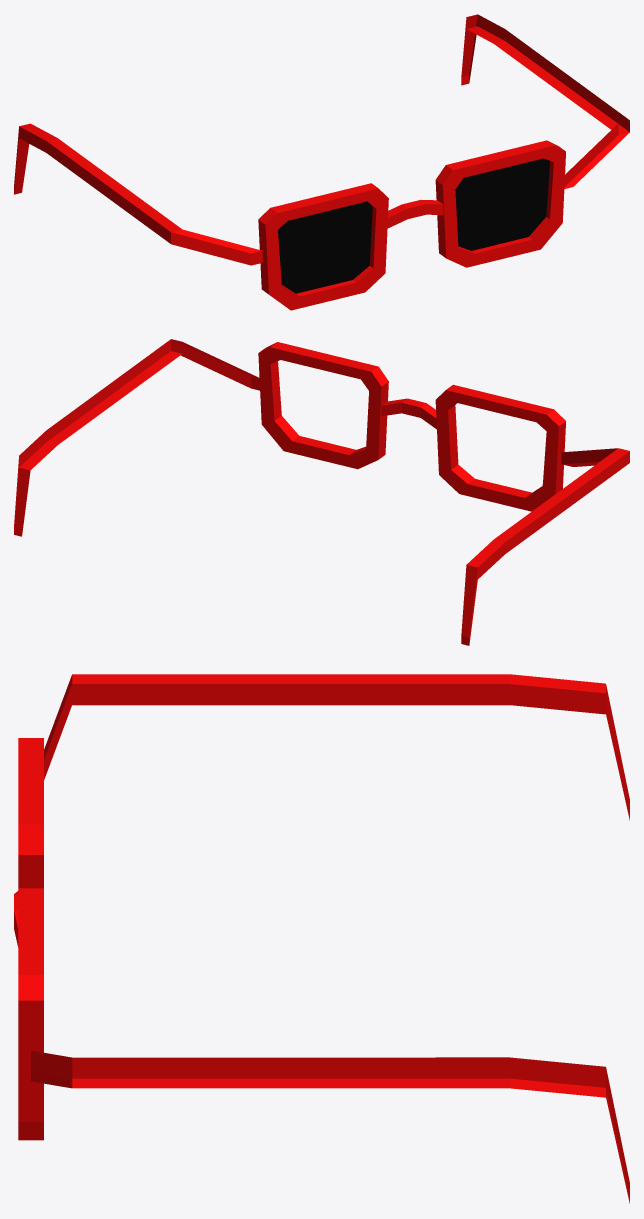
The model's file is glasses_sunglasses_01.glb.
The picture shows the model from 3 angles, top to bottom: view 1: azimuth 30°, elevation 25°; view 2: azimuth 150°, elevation 25°; view 3: azimuth 270°, elevation 25°; orthographic projection. The views are drawn at different scales.
Parts seen in each view (by area): view 1: glasses_sunglasses_01; view 2: glasses_sunglasses_01; view 3: glasses_sunglasses_01.
Boxes of the visible parts, <box> form: glasses_sunglasses_01: <box>14,14,629,310</box>; glasses_sunglasses_01: <box>14,339,629,645</box>; glasses_sunglasses_01: <box>14,674,629,1203</box>.
Bounding box in the file's own units: 0.2718 × 0.057 × 0.18.
Materials: 1 (1 with a texture image).
